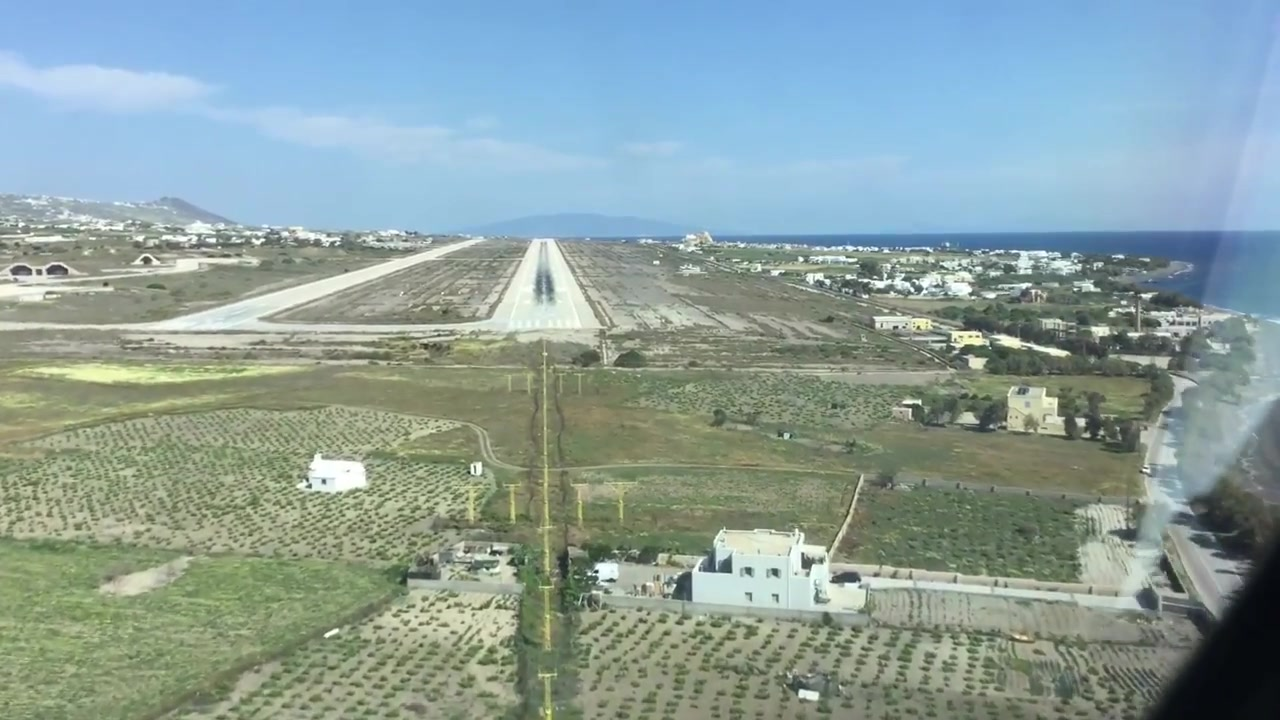entrance: (513, 317, 578, 330)
runway: (149, 238, 480, 332), (489, 239, 602, 331)
